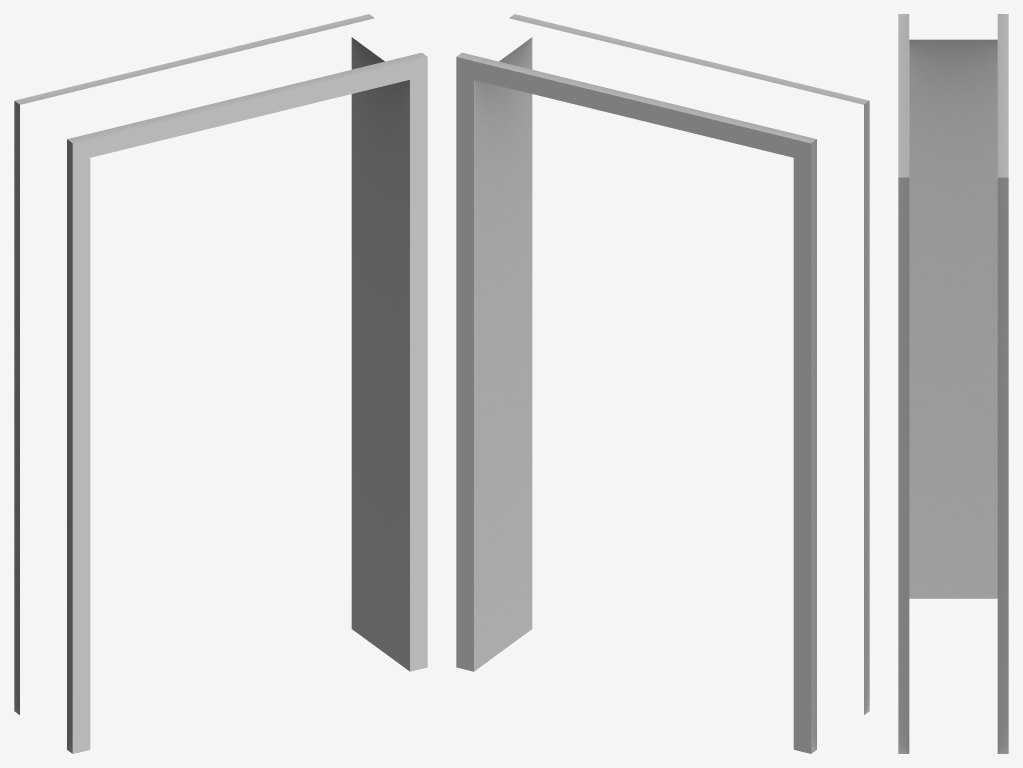
Rendered from doorframe.gltf.
3 views of the same model, side by side, from view 1: azimuth 30°, elevation 25°; view 2: azimuth 150°, elevation 25°; view 3: azimuth 270°, elevation 25° (orthographic). The views are drawn at different scales.
Visible parts, largest first — view 1: DoorFrame; view 2: DoorFrame; view 3: DoorFrame.
Boxes of the visible parts, x1,y1,x2,y2 form: DoorFrame: (14, 14, 427, 753); DoorFrame: (456, 14, 869, 753); DoorFrame: (898, 14, 1008, 753).
Size of the model in its own units: 1.4 by 2.3 by 0.4.
Materials: 1 (1 with a texture image).
